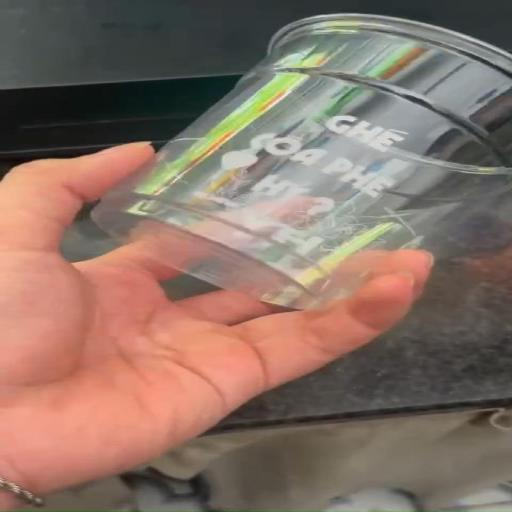ly_giay: (92, 13, 511, 308)
